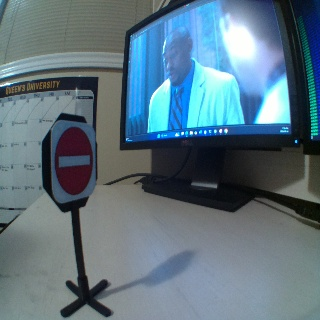sign_noentry: (49, 120, 96, 196)
